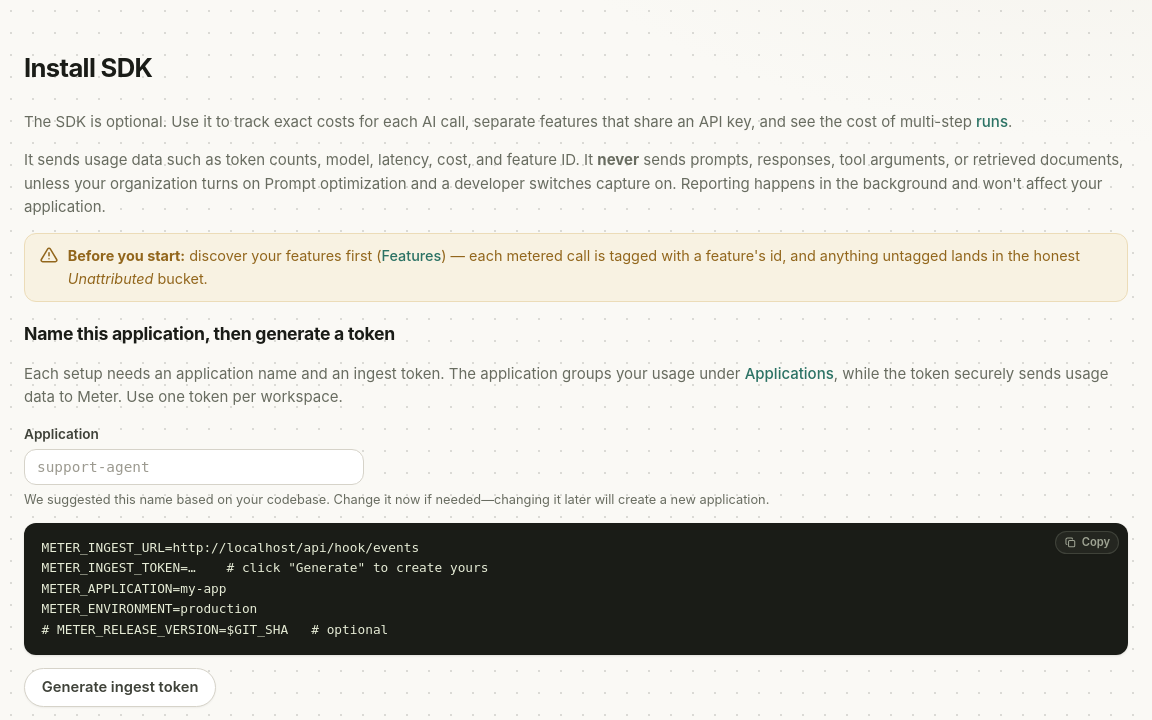
Scenario: InstallSdkPage — the token › says so when the token cannot be minted
Click the button "Generate ingest token": (120, 687) 24,668 -> 216,706
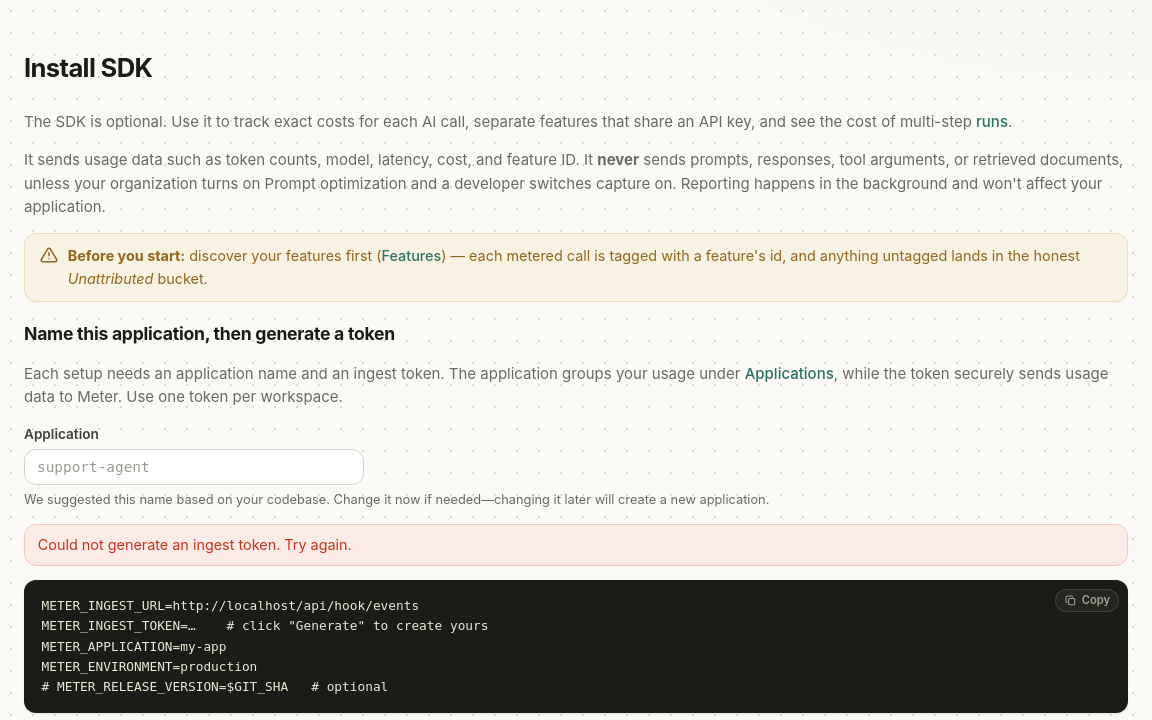
Now the message shows "Could not generate", box 38,536 -> 352,553
